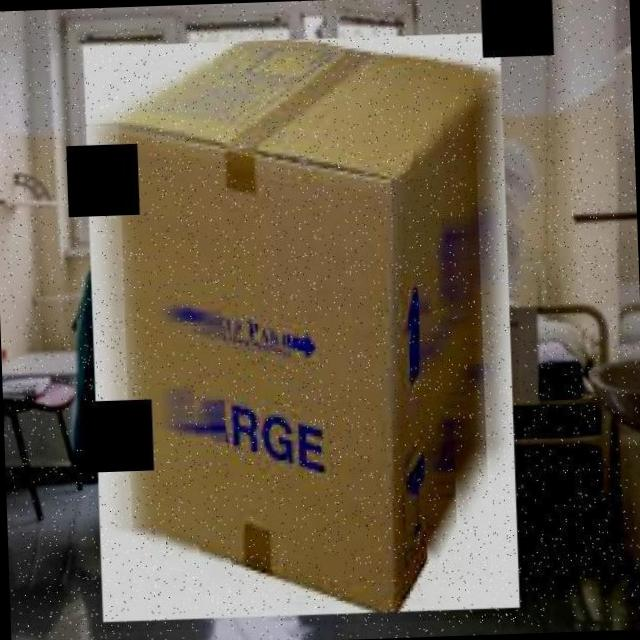box: (77, 23, 527, 632)
